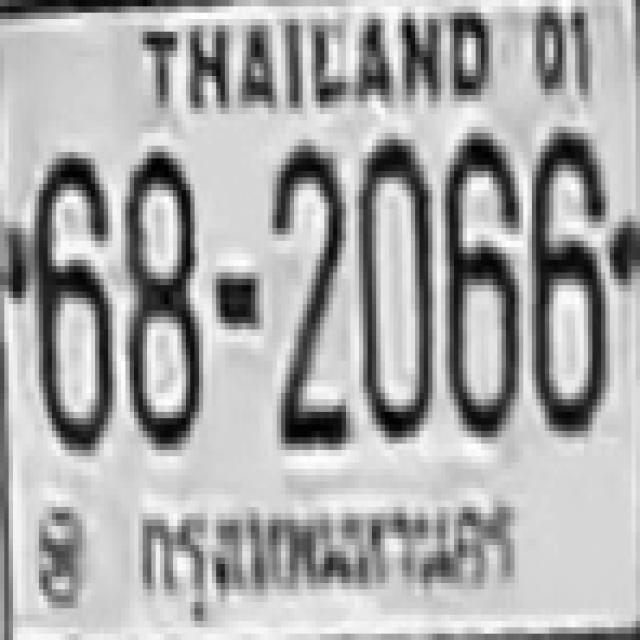0: (357, 133, 430, 431)
2: (272, 140, 346, 438), (270, 139, 344, 412)
6: (528, 124, 606, 428), (33, 146, 110, 444), (441, 127, 515, 431)
8: (123, 146, 201, 444)
Bangkok: (128, 493, 530, 628)
